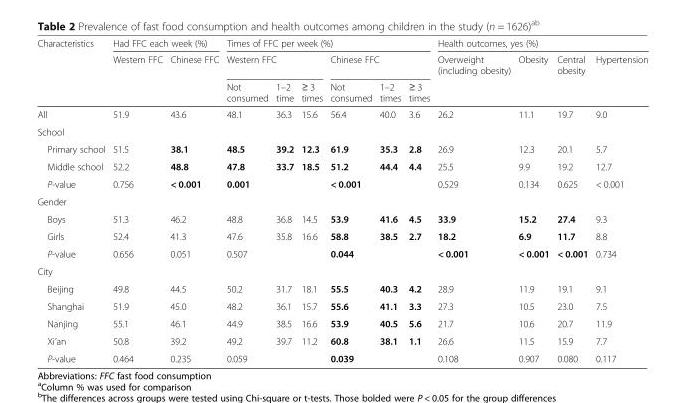table: (36, 37, 647, 363)
table column: (433, 37, 513, 363), (36, 37, 108, 363), (108, 37, 165, 363), (165, 37, 222, 363), (591, 37, 647, 363), (325, 37, 375, 363), (222, 37, 271, 363), (513, 37, 552, 363), (552, 37, 591, 363), (296, 37, 325, 363), (375, 37, 404, 363), (404, 37, 433, 363), (271, 37, 296, 363)
table column header: (36, 37, 647, 105)
table projected row header: (36, 122, 647, 140), (36, 192, 647, 209), (36, 262, 647, 279)
table row: (36, 50, 647, 78), (36, 78, 647, 105), (36, 122, 647, 140), (36, 174, 647, 192), (36, 209, 647, 227), (36, 244, 647, 262), (36, 279, 647, 297), (36, 331, 647, 349), (36, 105, 647, 122), (36, 140, 647, 157), (36, 157, 647, 174), (36, 192, 647, 209), (36, 227, 647, 244), (36, 262, 647, 279), (36, 297, 647, 314), (36, 314, 647, 331), (36, 349, 647, 363), (36, 37, 647, 50)
table spanning cell: (36, 37, 108, 105), (433, 50, 513, 105), (108, 50, 165, 105), (165, 50, 222, 105), (591, 50, 647, 105), (325, 50, 433, 78), (222, 50, 325, 78), (433, 37, 647, 50), (222, 37, 433, 50), (513, 50, 552, 105), (552, 50, 591, 105), (325, 174, 433, 192), (325, 244, 433, 262), (222, 174, 325, 192), (222, 244, 325, 262), (325, 349, 433, 363), (108, 37, 222, 50), (222, 349, 325, 363)
